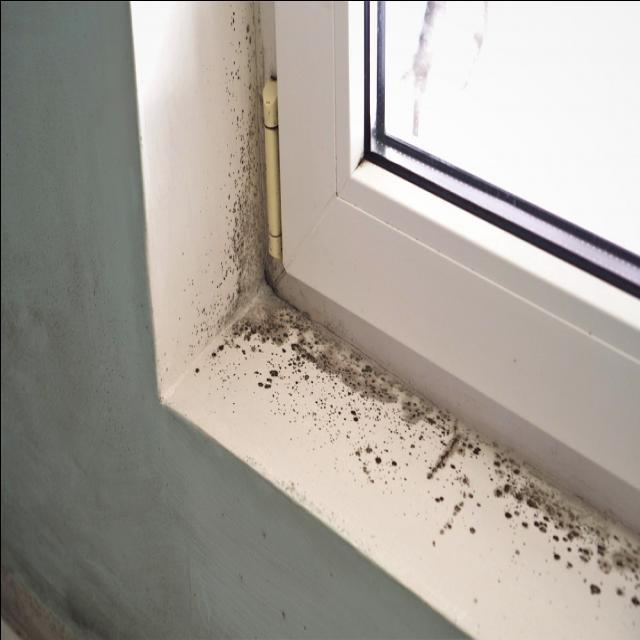Crack: (418, 426, 466, 483)
leak: (233, 283, 640, 609), (203, 7, 290, 353)
